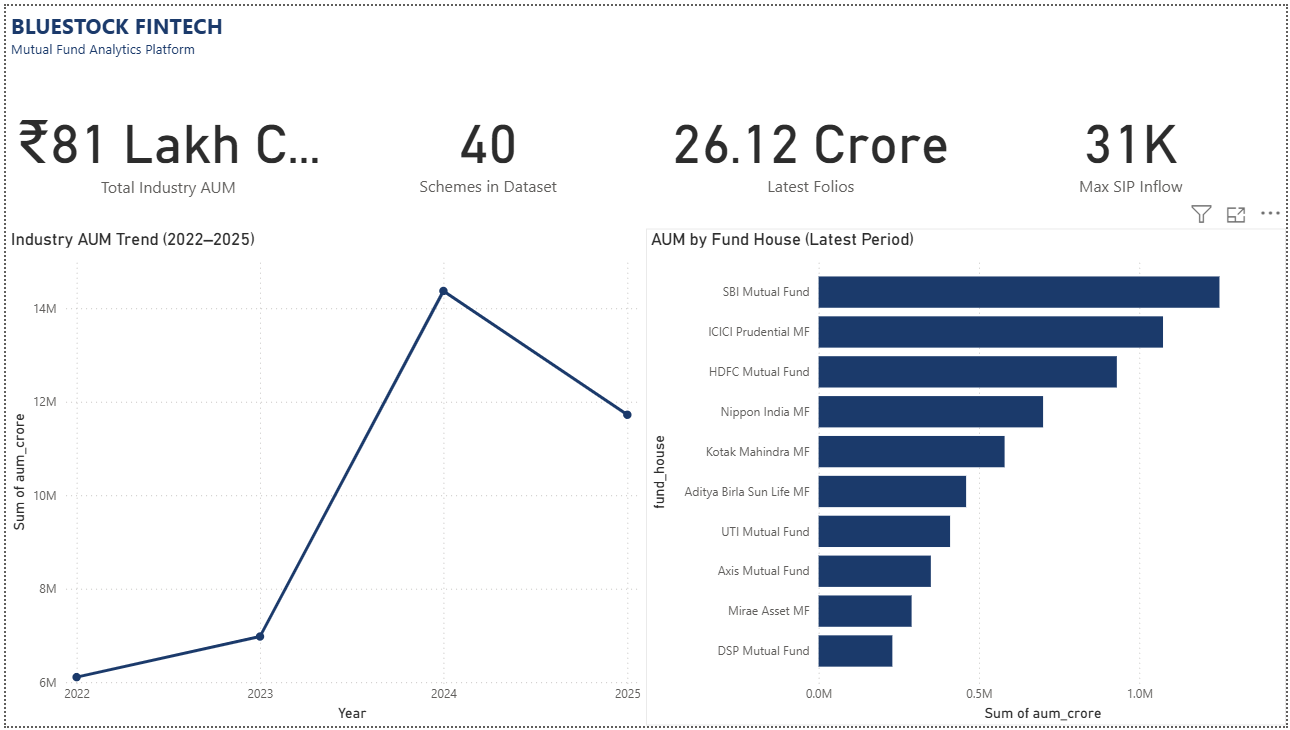

Layout of this report page (visuals, bound fields, positions):
{"tool":"powerbi","page":{"name":"Industry Overview","canvas":[1280,720],"ordinal":0},"visuals":[{"type":"card","fields":{"Values":["03_aum_by_fund_house_clean.Total Industry AUM"]},"box":[0,61.1,325.3,161.4],"z":0},{"type":"card","fields":{"Values":["04_monthly_sip_inflows_clean.Max SIP Inflow"]},"box":[970,61.2,310,161.2],"z":1000},{"type":"card","fields":{"Values":["06_industry_folio_count_clean.Latest Folios"]},"box":[640,61.2,330,161.2],"z":2000},{"type":"card","fields":{"Values":["01_fund_master_clean.Schemes in Dataset"]},"box":[325,61.2,315,161.2],"z":3000},{"type":"lineChart","title":"Industry AUM Trend (2022–2025)","fields":{"Category":["03_aum_by_fund_house_clean.date.Variation.Date Hierarchy.Year","03_aum_by_fund_house_clean.date.Variation.Date Hierarchy.Quarter","03_aum_by_fund_house_clean.date.Variation.Date Hierarchy.Month","03_aum_by_fund_house_clean.date.Variation.Date Hierarchy.Day"],"Y":["Sum(03_aum_by_fund_house_clean.aum_crore)"]},"box":[0,222.6,639.5,497.7],"z":4000},{"type":"clusteredBarChart","title":"AUM by Fund House (Latest Period)","fields":{"Y":["Sum(03_aum_by_fund_house_clean.aum_crore)"],"Category":["03_aum_by_fund_house_clean.fund_house"]},"box":[639.5,222.6,640.8,497.7],"z":5000},{"type":"textbox","box":[0,0,238.5,61.1],"z":6000}]}

Visuals, with their boxes in screenshot pixels (x1, y1, x2, y2), scaled from the page's 1280x720 canvas onto the 1290x730 screenshot:
card - 03_aum_by_fund_house_clean.Total Industry AUM: <region>0, 62, 328, 226</region>
card - 04_monthly_sip_inflows_clean.Max SIP Inflow: <region>978, 62, 1289, 225</region>
card - 06_industry_folio_count_clean.Latest Folios: <region>645, 62, 978, 225</region>
card - 01_fund_master_clean.Schemes in Dataset: <region>328, 62, 645, 225</region>
"Industry AUM Trend (2022–2025)" lineChart: <region>0, 226, 644, 729</region>
"AUM by Fund House (Latest Period)" clusteredBarChart: <region>644, 226, 1289, 729</region>
textbox: <region>0, 0, 240, 62</region>
